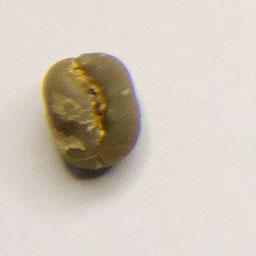peaberry: (38, 48, 145, 175)
